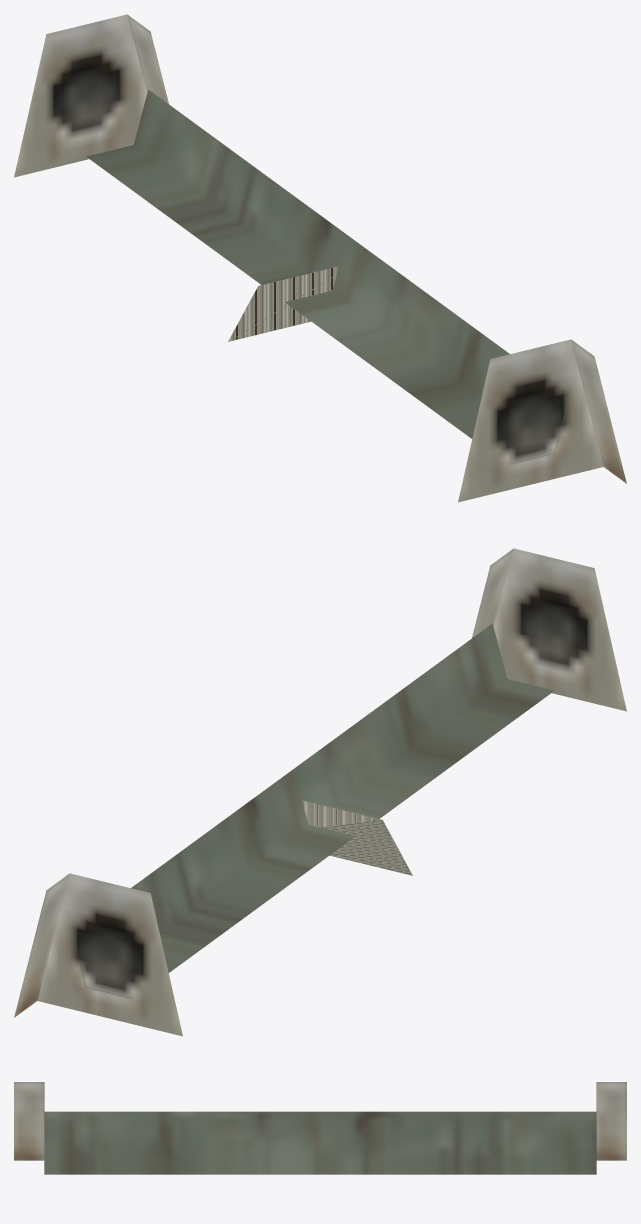
Rendered from straightpipe2.glb.
3 views of the same model, one above another, from view 1: azimuth 30°, elevation 25°; view 2: azimuth 150°, elevation 25°; view 3: azimuth 270°, elevation 25° (orthographic). The views are drawn at different scales.
Visible parts, largest first — view 1: Straight2; view 2: Straight2; view 3: Straight2.
Boxes of the visible parts, bbox=[...] form: Straight2: bbox=[14, 14, 626, 502]; Straight2: bbox=[14, 548, 626, 1036]; Straight2: bbox=[14, 1082, 626, 1174].
Bounding box in the file's own units: 3.41 × 2.73 × 17.04.
1 material, 1 textured.
